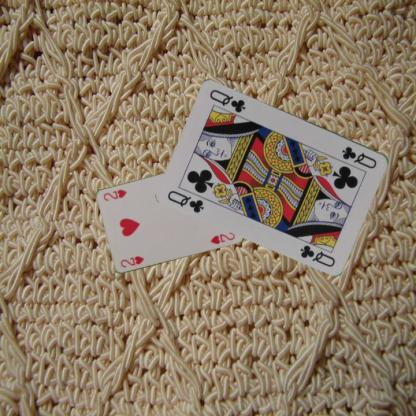2h: (118, 254, 145, 268)
Qc: (165, 188, 206, 214), (340, 143, 378, 170)
